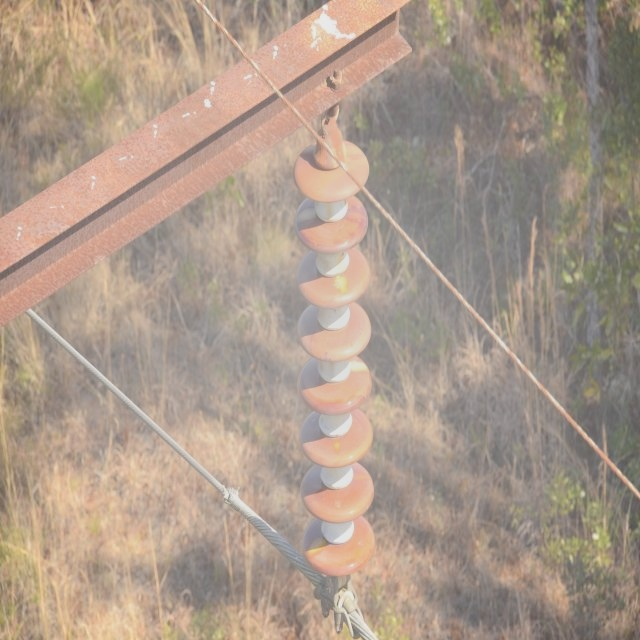insulator: (294, 139, 376, 577)
